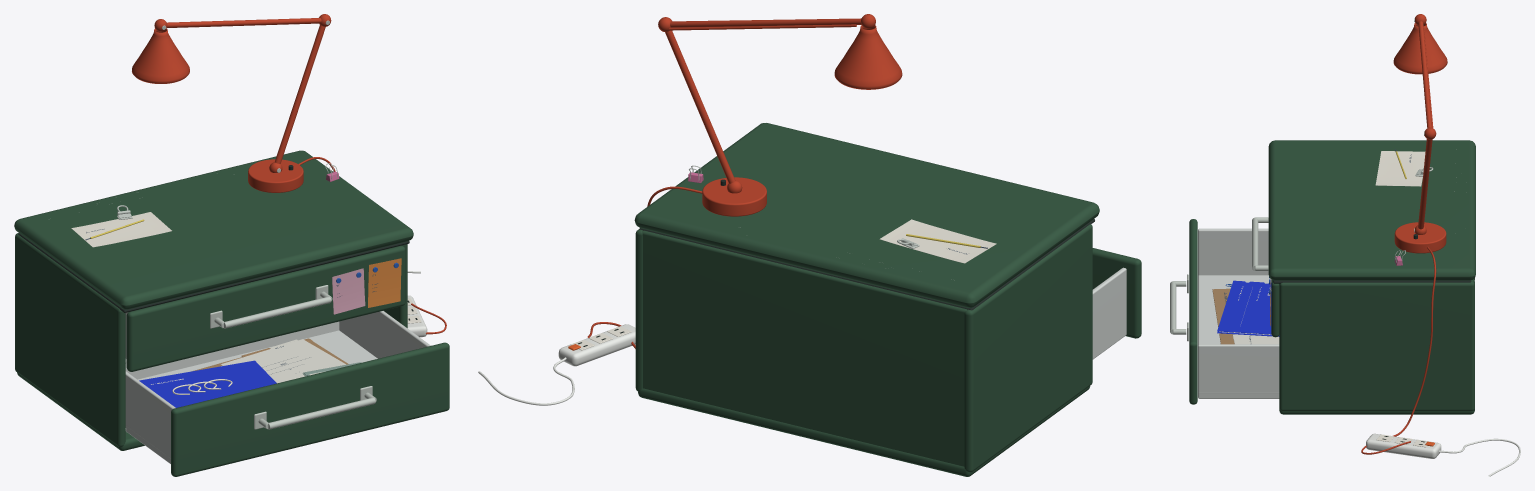
Rendered from portfolio-archive.glb.
3 views of the same model, side by side, from view 1: azimuth 30°, elevation 25°; view 2: azimuth 150°, elevation 25°; view 3: azimuth 270°, elevation 25° (orthographic). The views are drawn at different scales.
Visible parts, largest first — view 1: Cabinet / top, Drawer 2 / enamel front, Cabinet / side panel, Drawer 1 / enamel front, Portfolio / notched blue paper cover, Drawer 2 / inner side, Drawer 2 / inner side.001, Resume / top cover, Lamp / curved enamel bell, Drawer 2 / rear wall, Cabinet top / loose ivory sheets / fibre sheet, Drawer 2 / ivory base (+10 smaller); view 2: Cabinet / back panel, Cabinet / top, Cabinet / side panel, Cabinet / lower rim, Lamp / curved enamel bell, Drawer 2 / inner side, Cabinet top / loose ivory sheets / fibre sheet, Drawer 2 / enamel front, Lamp / red base, Power strip / moulded body, Lamp / extended lower arm, Lamp / long upper arm (+2 smaller); view 3: Cabinet / top, Cabinet / side panel.001, Drawer 2 / inner side.001, Drawer 2 / inner side, Portfolio / notched blue paper cover, Drawer 2 / ivory base, Drawer 2 / enamel front, Lamp / curved enamel bell, Cabinet top / loose ivory sheets / fibre sheet, Lamp / red base, Power strip / moulded body, Cabinet / lower rim (+7 smaller).
Boxes of the visible parts, x1=… form: Cabinet / top: x1=14, y1=150, x2=413, y2=309; Drawer 2 / enamel front: x1=171, y1=342, x2=449, y2=476; Cabinet / side panel: x1=15, y1=233, x2=125, y2=446; Drawer 1 / enamel front: x1=126, y1=245, x2=405, y2=371; Portfolio / notched blue paper cover: x1=139, y1=360, x2=276, y2=407; Drawer 2 / inner side: x1=125, y1=371, x2=175, y2=463; Drawer 2 / inner side.001: x1=339, y1=311, x2=430, y2=358; Resume / top cover: x1=221, y1=339, x2=345, y2=383; Lamp / curved enamel bell: x1=132, y1=28, x2=189, y2=83; Drawer 2 / rear wall: x1=125, y1=321, x2=339, y2=379; Cabinet top / loose ivory sheets / fibre sheet: x1=71, y1=212, x2=171, y2=247; Drawer 2 / ivory base: x1=126, y1=330, x2=377, y2=458; Cabinet / back panel: x1=642, y1=230, x2=966, y2=466; Cabinet / top: x1=634, y1=123, x2=1099, y2=307; Cabinet / side panel: x1=964, y1=224, x2=1092, y2=472; Cabinet / lower rim: x1=638, y1=386, x2=1090, y2=476; Lamp / curved enamel bell: x1=834, y1=25, x2=902, y2=89; Drawer 2 / inner side: x1=1092, y1=267, x2=1126, y2=359; Cabinet top / loose ivory sheets / fibre sheet: x1=879, y1=219, x2=996, y2=263; Drawer 2 / enamel front: x1=1092, y1=248, x2=1141, y2=338; Lamp / red base: x1=702, y1=177, x2=766, y2=216; Power strip / moulded body: x1=558, y1=324, x2=635, y2=366; Lamp / extended lower arm: x1=665, y1=30, x2=735, y2=183; Lamp / long upper arm: x1=670, y1=18, x2=861, y2=27; Cabinet / top: x1=1268, y1=140, x2=1475, y2=280; Cabinet / side panel.001: x1=1279, y1=281, x2=1474, y2=411; Drawer 2 / inner side.001: x1=1198, y1=344, x2=1279, y2=398; Drawer 2 / inner side: x1=1198, y1=228, x2=1268, y2=275; Portfolio / notched blue paper cover: x1=1217, y1=280, x2=1271, y2=334; Drawer 2 / ivory base: x1=1198, y1=275, x2=1279, y2=393; Drawer 2 / enamel front: x1=1189, y1=219, x2=1197, y2=404; Lamp / curved enamel bell: x1=1393, y1=23, x2=1447, y2=74; Cabinet top / loose ivory sheets / fibre sheet: x1=1375, y1=151, x2=1425, y2=186; Lamp / red base: x1=1394, y1=222, x2=1446, y2=253; Power strip / moulded body: x1=1366, y1=433, x2=1441, y2=458; Cabinet / lower rim: x1=1279, y1=280, x2=1474, y2=414.
Size of the model in its own units: 1.85 by 1.5 by 1.45.
21 materials, 10 textured.
